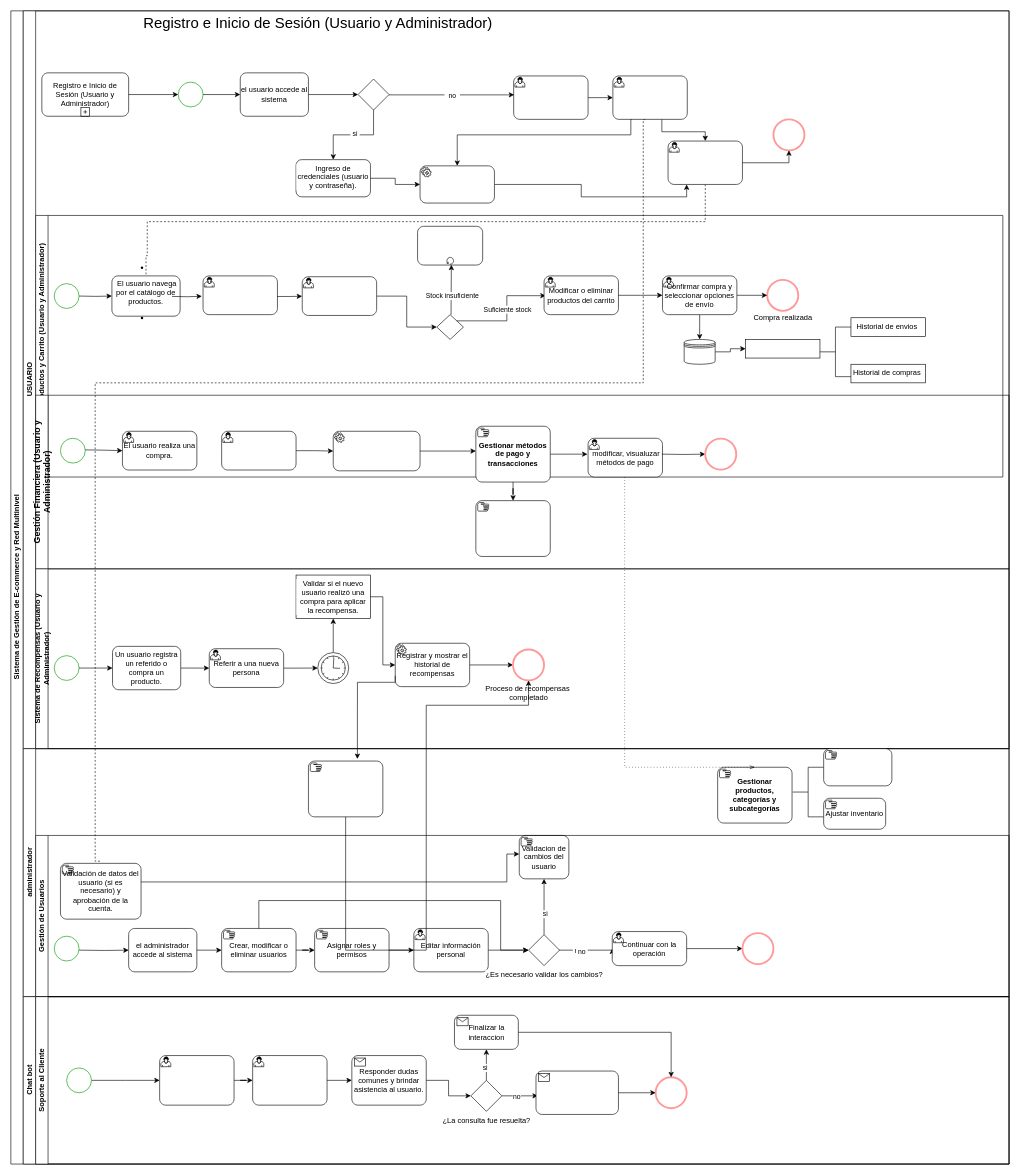
Some shapes in this 1020 by 1175 pixel diagram are drawn without their labels. The centre of each missing label's shape, as x and y in pixels:
Agregar productos al carrito: (x=339, y=295)
analisis de datos: (x=782, y=348)
Autenticación del usuario .: (x=456, y=184)
Buscar productos mediante el motor de búsqueda: (x=239, y=295)
Contactar con el soporte a través del chatbot: (x=289, y=1080)
Crear, editar, eliminar productos: (x=857, y=767)
el usuario ingresa al ecommerce: (x=704, y=162)
El usuario tiene una duda o problema.: (x=196, y=1080)
eliminar y crear metodos de pago: (x=512, y=528)
Escalar a un agente humano para soporte avanzado: (x=576, y=1092)
Ingreso de credenciales: (x=649, y=97)
Modificar recompensas y gestionar historial de recompensas: (x=345, y=788)
Mostrar mensaje de error: (x=450, y=245)
Procesar la transacción financiera.: (x=376, y=451)
Registro de nuevo usuario: (x=550, y=97)
Seleccionar método de pago (tarjeta, PayPal, etc.): (x=258, y=450)
Verificación del stock disponible: (x=449, y=326)
¿el usuario se encuentra registado?: (x=373, y=94)
